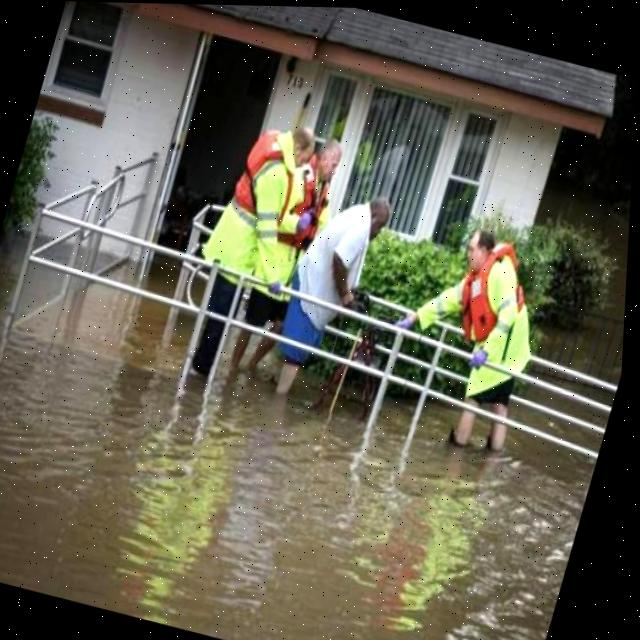civilian: (257, 170, 405, 434)
rescuer: (371, 210, 576, 464), (178, 105, 319, 399), (230, 112, 353, 414)
